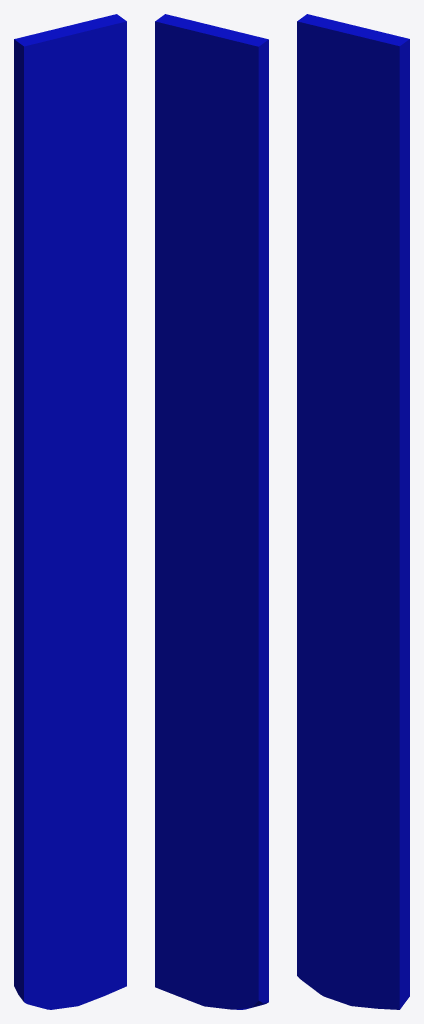
3 renders of one model, left to right at view 1: azimuth 30°, elevation 25°; view 2: azimuth 150°, elevation 25°; view 3: azimuth 330°, elevation 25°, orthographic.
Bounding box in the file's own units: 3.34 × 30.19 × 0.5658.
